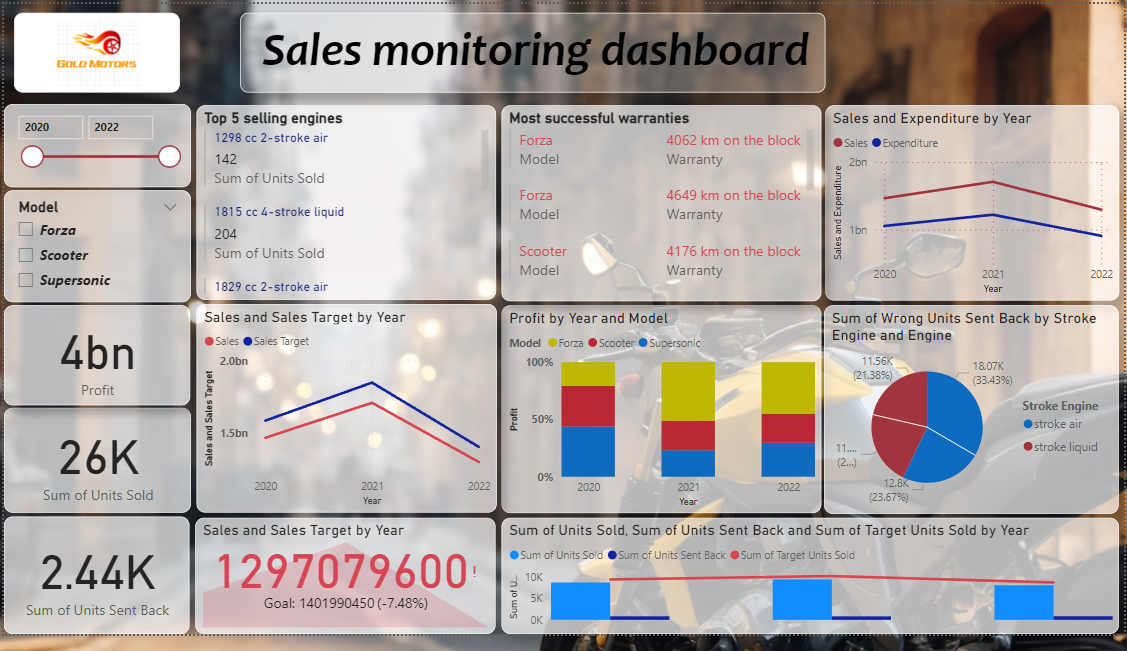

The dashboard page shown, as its layout file describes it:
{"tool":"powerbi","page":{"name":"Page 1","canvas":[1280,720],"ordinal":0},"visuals":[{"type":"image","box":[11.4,10,189.7,91.3],"z":0},{"type":"slicer","title":"Year","fields":{"Values":["public GoldMotors.Year"]},"box":[0,114.1,213.9,95.5],"z":1000},{"type":"slicer","title":"Year","fields":{"Values":["public GoldMotors.Model"]},"box":[0,212.5,213.9,128.3],"z":2000},{"type":"card","title":"Year","fields":{"Values":["Sum(public GoldMotors.Units Sold)"]},"box":[0,462,213.9,119.8],"z":3000},{"type":"card","title":"Year","fields":{"Values":["Sum(public GoldMotors.Units Sent Back)"]},"box":[0,585.4,211.9,134.2],"z":4000},{"type":"card","title":"Year","fields":{"Values":["public GoldMotors.Profit"]},"box":[0,343.7,212.5,114.1],"z":5000},{"type":"lineChart","fields":{"Category":["public GoldMotors.Year"],"Y":["public GoldMotors.Sales","public GoldMotors.Expenditure"]},"box":[938.6,115.7,335.7,222.9],"z":6000},{"type":"hundredPercentStackedColumnChart","fields":{"Category":["public GoldMotors.Year"],"Series":["public GoldMotors.Model"],"Y":["public GoldMotors.Profit"]},"box":[568,344.2,365.5,238],"z":7000},{"type":"pieChart","fields":{"Category":["public GoldMotors.Short Engine Type.3"],"Series":["public GoldMotors.Short Engine Type.2"],"Y":["Sum(public GoldMotors.Units Sent Back)"]},"box":[937.1,344.3,337.1,238.6],"z":8000},{"type":"multiRowCard","title":"Top 5 selling engines","fields":{"Values":["public GoldMotors.Engine Type","Sum(public GoldMotors.Units Sold)"]},"box":[219.6,115.5,342.2,222.5],"z":9000},{"type":"multiRowCard","title":"Most successful warranties","fields":{"Values":["public GoldMotors.Model","public GoldMotors.Warranty"]},"box":[568.6,115.7,365.7,224.3],"z":10000},{"type":"lineChart","fields":{"Category":["public GoldMotors.Year"],"Y":["public GoldMotors.Sales","public GoldMotors.Sales Target"]},"box":[220,342.9,342.9,238.6],"z":11000},{"type":"kpi","fields":{"Indicator":["public GoldMotors.Sales"],"Goal":["public GoldMotors.Sales Target"],"TrendLine":["public GoldMotors.Year"]},"box":[218,587,343,132.6],"z":12000},{"type":"lineClusteredColumnComboChart","fields":{"Category":["public GoldMotors.Year"],"Y":["Sum(public GoldMotors.Units Sold)","Sum(public GoldMotors.Units Sent Back)"],"Y2":["Sum(public GoldMotors.Target Units Sold)"]},"box":[568.6,587.1,705.7,132.9],"z":12001},{"type":"textbox","box":[270,10,668.6,91.4],"z":12002}]}

Visuals, with their boxes in screenshot pixels (x1, y1, x2, y2), scaled from the page's 1280x720 canvas onto the 1127x651 screenshot:
image: locate(10, 9, 177, 92)
"Year" slicer: locate(0, 103, 188, 190)
"Year" slicer: locate(0, 192, 188, 308)
"Year" card: locate(0, 418, 188, 526)
"Year" card: locate(0, 529, 187, 650)
"Year" card: locate(0, 311, 187, 414)
lineChart - public GoldMotors.Year x public GoldMotors.Sales: locate(826, 105, 1122, 306)
hundredPercentStackedColumnChart - public GoldMotors.Year x public GoldMotors.Model: locate(500, 311, 822, 526)
pieChart - public GoldMotors.Short Engine Type.3 x public GoldMotors.Short Engine Type.2: locate(825, 311, 1122, 527)
"Top 5 selling engines" multiRowCard: locate(193, 104, 495, 306)
"Most successful warranties" multiRowCard: locate(501, 105, 823, 307)
lineChart - public GoldMotors.Year x public GoldMotors.Sales: locate(194, 310, 496, 526)
kpi - public GoldMotors.Sales x public GoldMotors.Sales Target: locate(192, 531, 494, 650)
lineClusteredColumnComboChart - public GoldMotors.Year x Sum(public GoldMotors.Units Sold): locate(501, 531, 1122, 650)
textbox: locate(238, 9, 826, 92)
